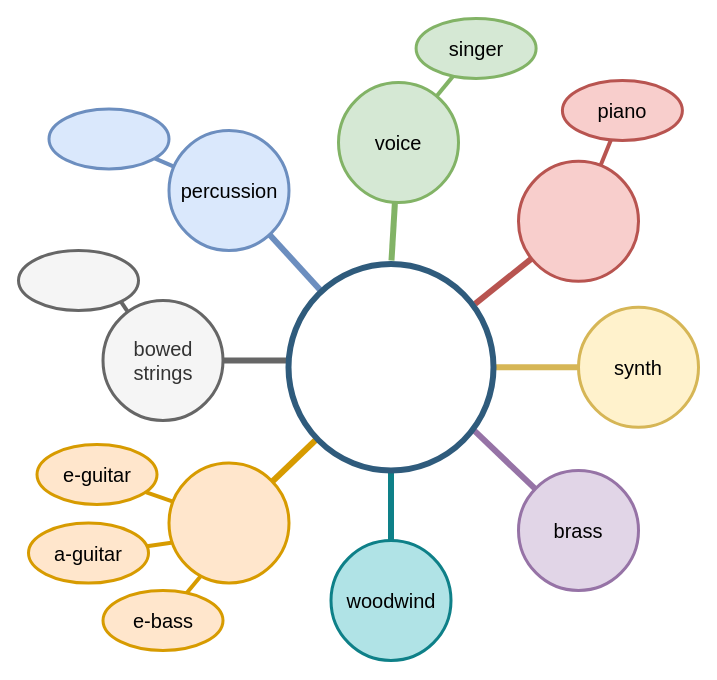
The diagram is 717 pixels wide and 680 high, and some of its shapes have lost their labels. Each missing label, with the box of its shape:
drums: (47, 107, 170, 170)
key: (516, 159, 640, 282)
musical instruments: (285, 260, 496, 473)
plucked strings: (167, 461, 290, 584)
violin: (16, 248, 140, 312)
